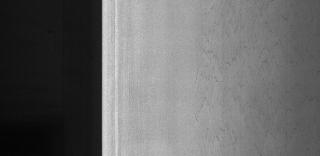silk spot: (195, 3, 309, 145)
